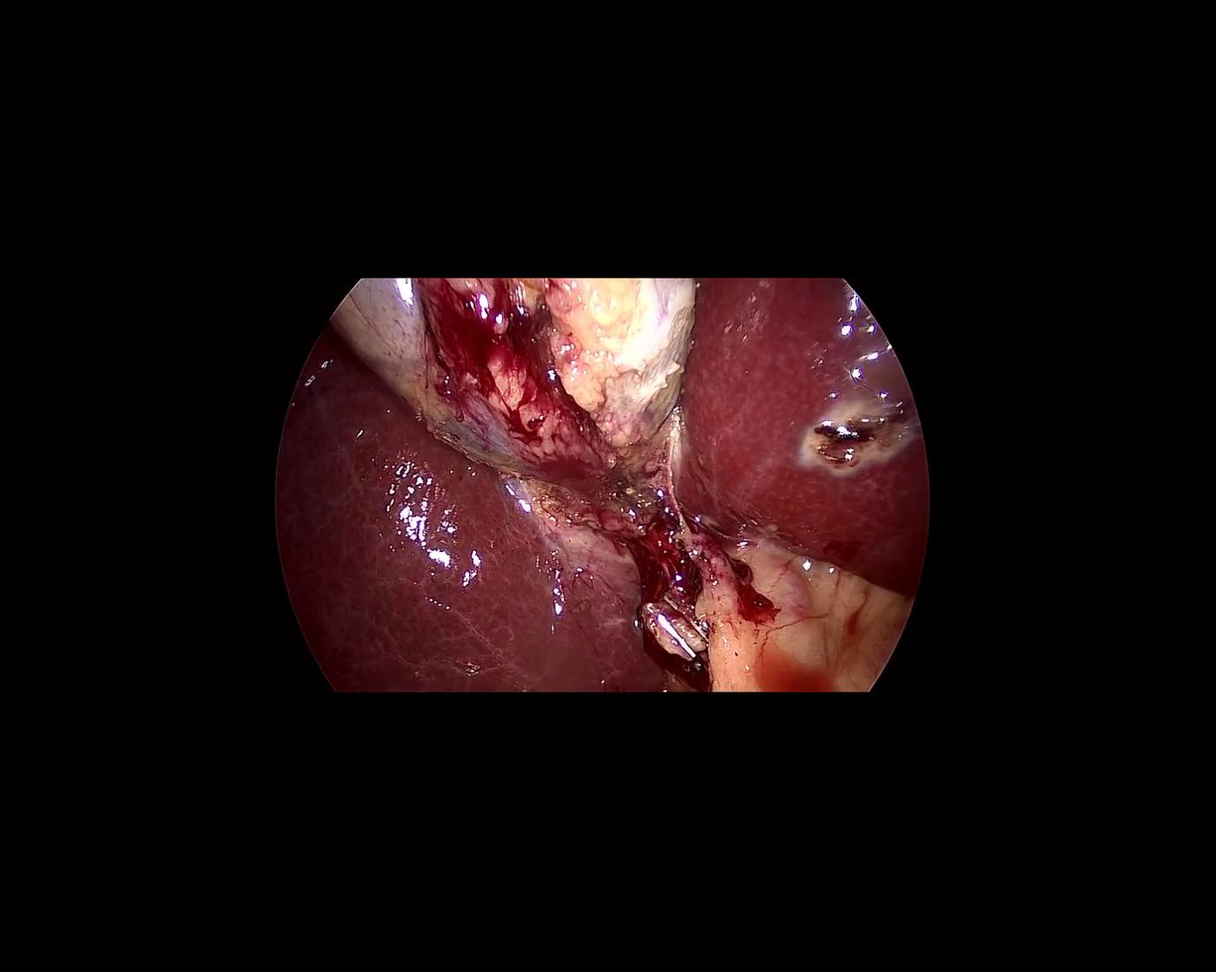Gallbladder: (328, 280, 694, 477)
Liver: (152, 324, 709, 852), (675, 275, 932, 602)
